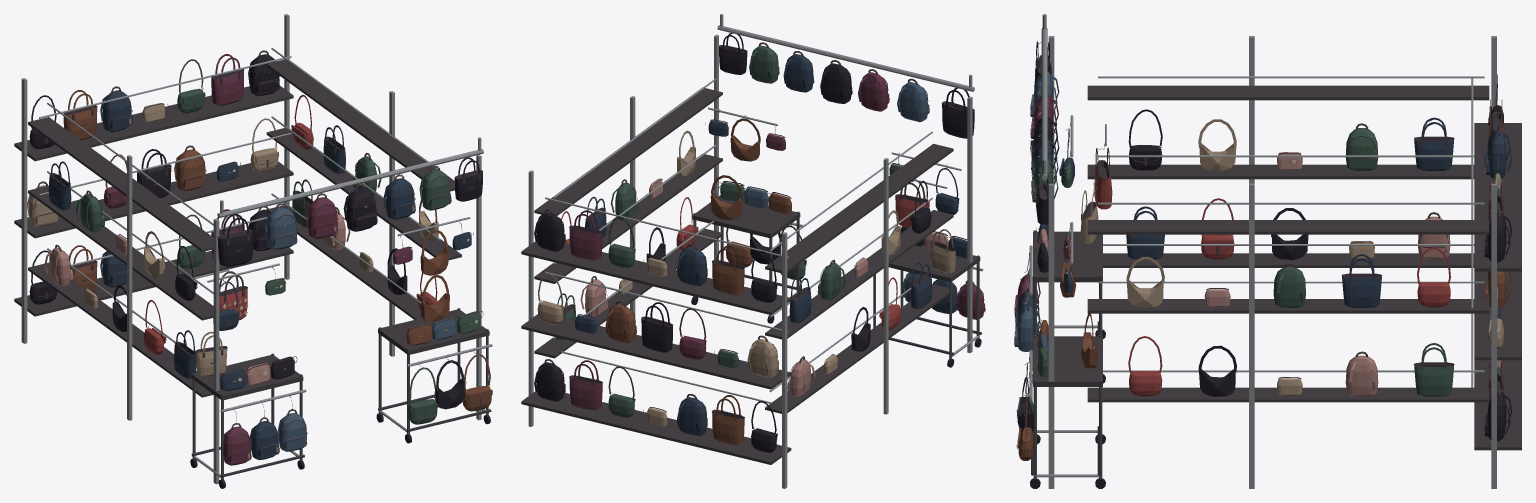
Rendered from hessed.glb.
3 views of the same model, side by side, from view 1: azimuth 30°, elevation 25°; view 2: azimuth 150°, elevation 25°; view 3: azimuth 270°, elevation 25° (orthographic). The views are drawn at different scales.
Parts seen in each view (by area): view 1: Hessed; view 2: Hessed; view 3: Hessed.
Part boxes in pixels (box(x1,y1,x2,y2)): Hessed: box(14, 14, 492, 488); Hessed: box(521, 14, 985, 488); Hessed: box(1014, 14, 1521, 488).
Bounding box in the file's own units: 2.65 × 2.65 × 3.73.
